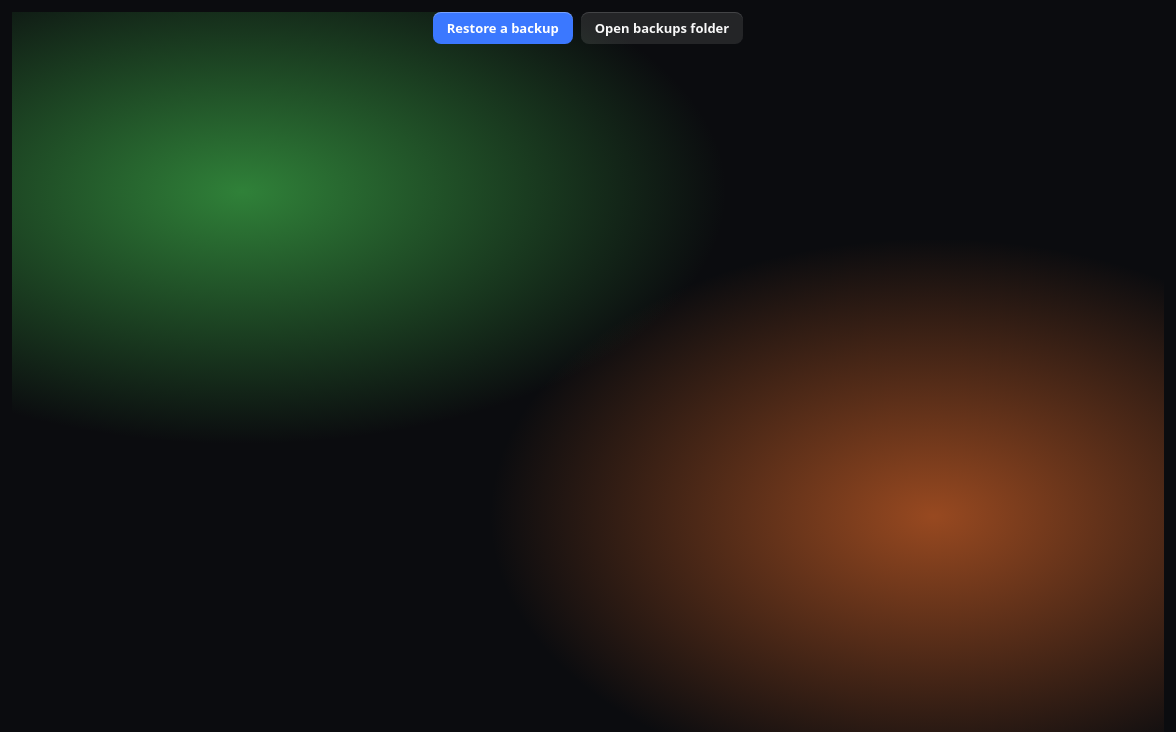
Test: a wrong password shows the error on the field and does not restore
Click the button "Restore a backup".
click(503, 28)  # box top-left (433, 12), bottom-right (573, 44)
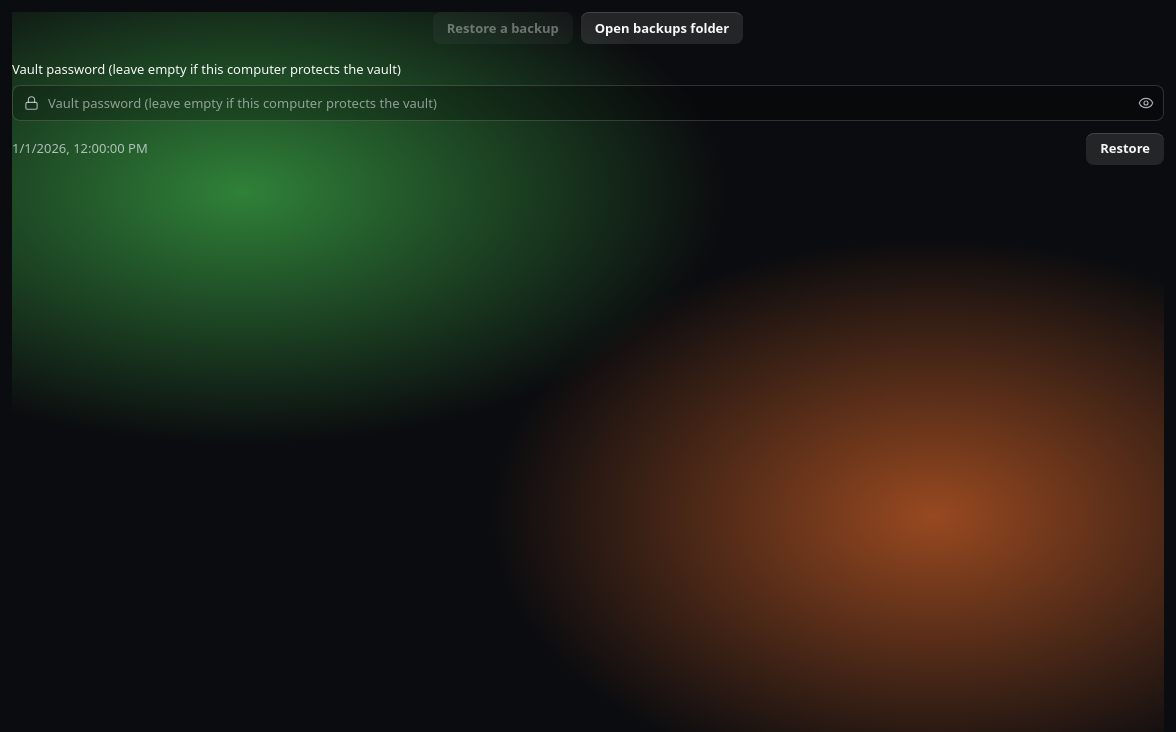
Type "not it at all" into the password field labelled "Vault password (leave empty if this computer protects the vault)".
click(588, 103); type("not it at all")  # box top-left (12, 85), bottom-right (1164, 121)
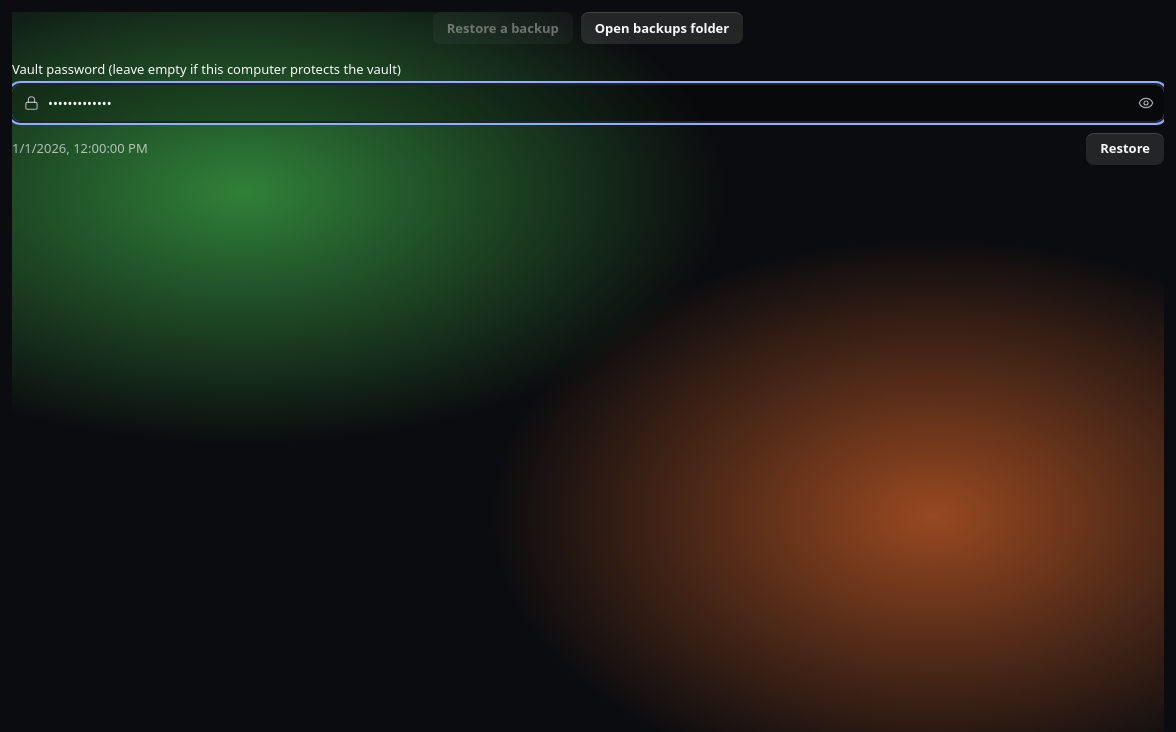
Click the button "Restore".
click(1125, 149)  # box top-left (1086, 133), bottom-right (1164, 165)
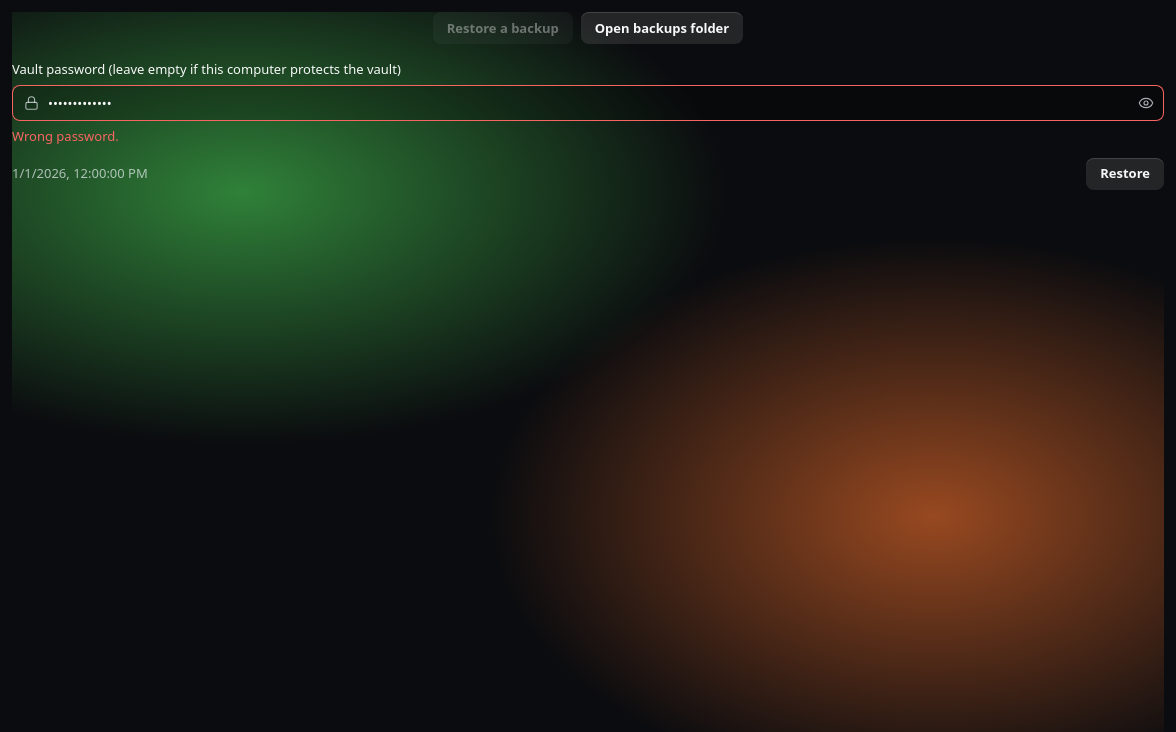
Expected: the text "Wrong password." is shown, top-left (12, 127), bottom-right (119, 145)
